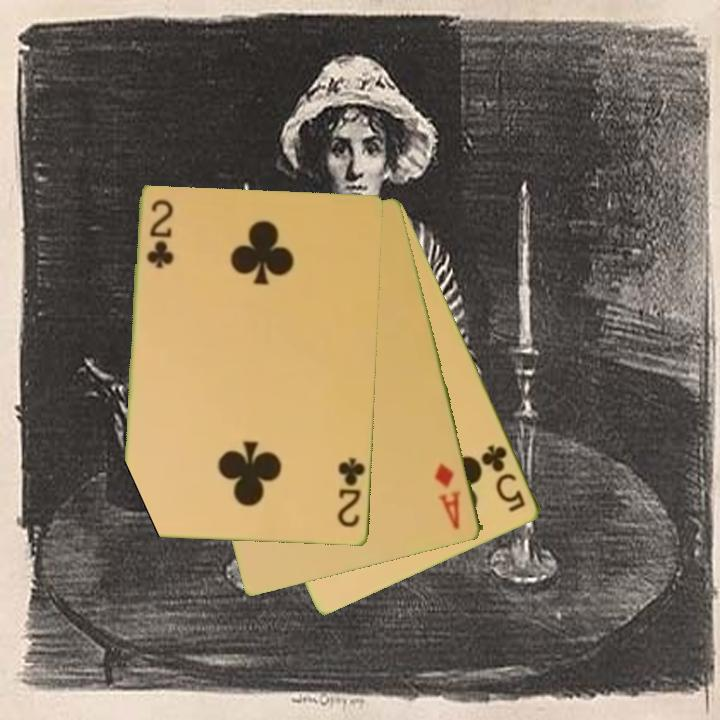2c: (334, 454, 369, 530), (143, 197, 174, 272)
5c: (478, 441, 529, 515)
Ad: (431, 460, 465, 533)
